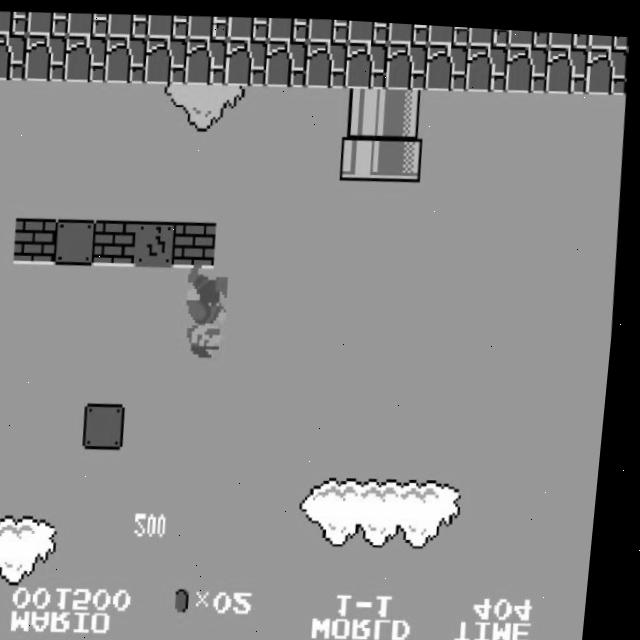0- big_mario: (184, 261, 237, 358)
1- brick_block: (176, 218, 223, 267), (16, 216, 62, 265), (96, 217, 142, 266)
13- mystery_block: (136, 217, 183, 266)
14- pipe: (382, 83, 429, 132), (342, 82, 388, 131)
15- pipe_head: (340, 128, 387, 177), (380, 128, 427, 177)
17- undestructible_block: (23, 32, 70, 81), (63, 33, 110, 82), (103, 34, 150, 83), (143, 34, 190, 83), (384, 37, 431, 86), (424, 37, 471, 86), (464, 38, 511, 87), (504, 38, 551, 87), (544, 39, 591, 88), (584, 39, 631, 88), (184, 34, 230, 83), (224, 35, 270, 84), (264, 36, 310, 85), (304, 36, 350, 85), (344, 36, 390, 85), (0, 33, 28, 81), (26, 10, 70, 36), (66, 11, 110, 37), (106, 11, 150, 37), (146, 11, 190, 37), (186, 12, 230, 38), (266, 13, 310, 39), (227, 13, 270, 39), (306, 14, 350, 39), (346, 16, 390, 39), (386, 18, 430, 40), (427, 20, 470, 41), (467, 22, 510, 41), (507, 24, 550, 42), (0, 11, 29, 35), (547, 26, 590, 41), (586, 27, 629, 42)
3- empty_block: (56, 216, 102, 265), (89, 400, 135, 448)
